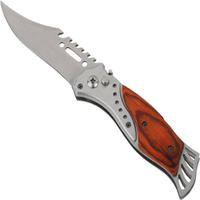knife: (1, 1, 196, 190)
